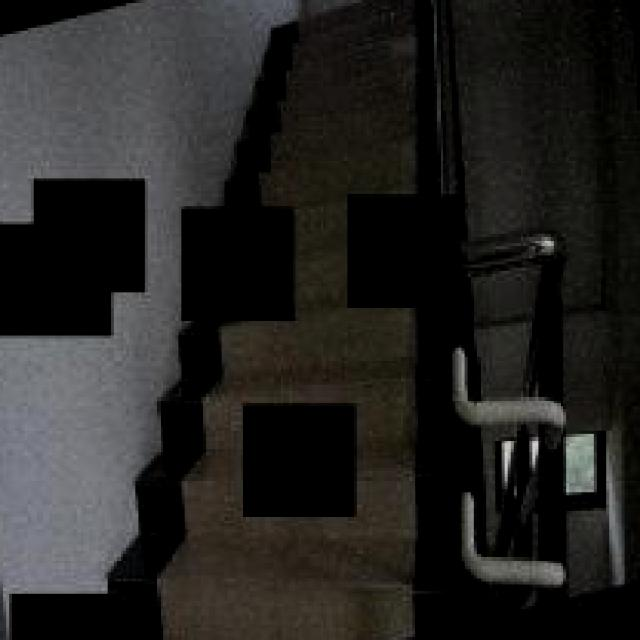upstair: (269, 32, 432, 179)
